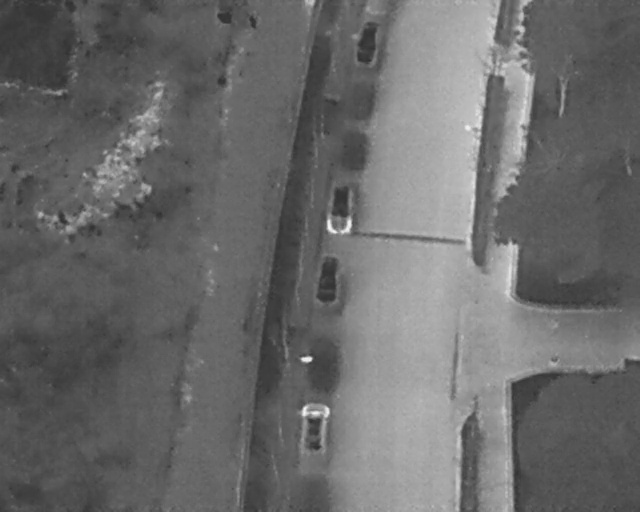Car: (297, 401, 331, 457), (324, 185, 355, 234), (353, 18, 381, 66), (315, 254, 340, 303)
